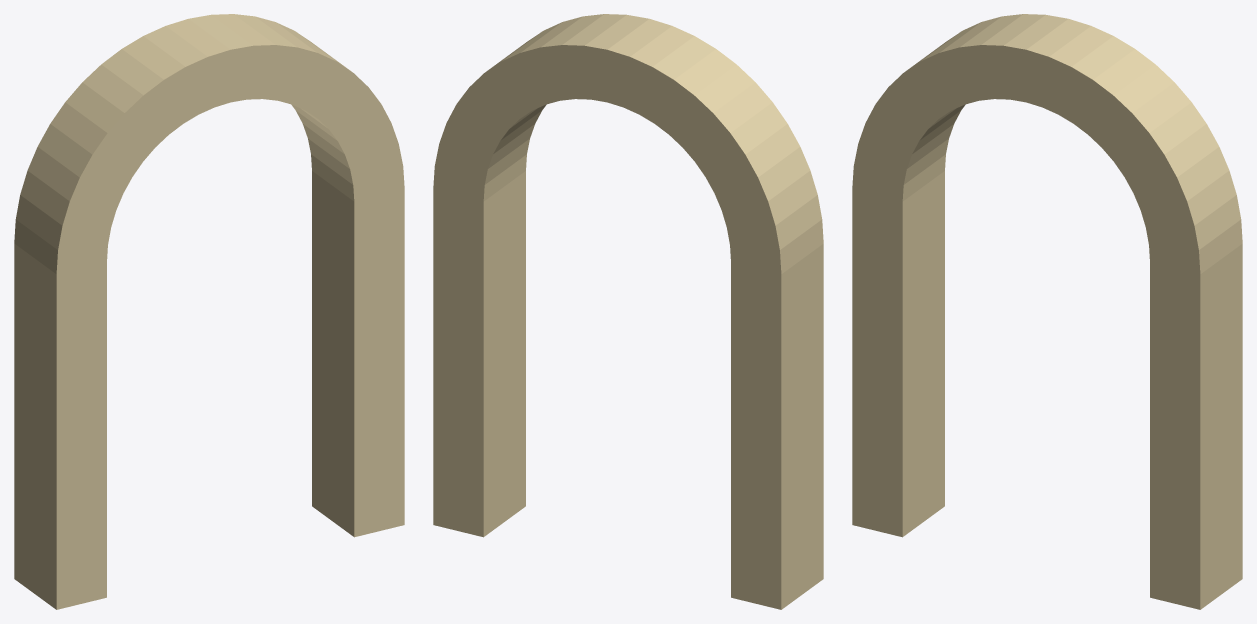
File: garden-arch.obj
The picture shows the model from 3 angles, left to right: view 1: azimuth 30°, elevation 25°; view 2: azimuth 150°, elevation 25°; view 3: azimuth 330°, elevation 25°; orthographic projection.
Size of the model in its own units: 1.52 by 2.16 by 0.32.
